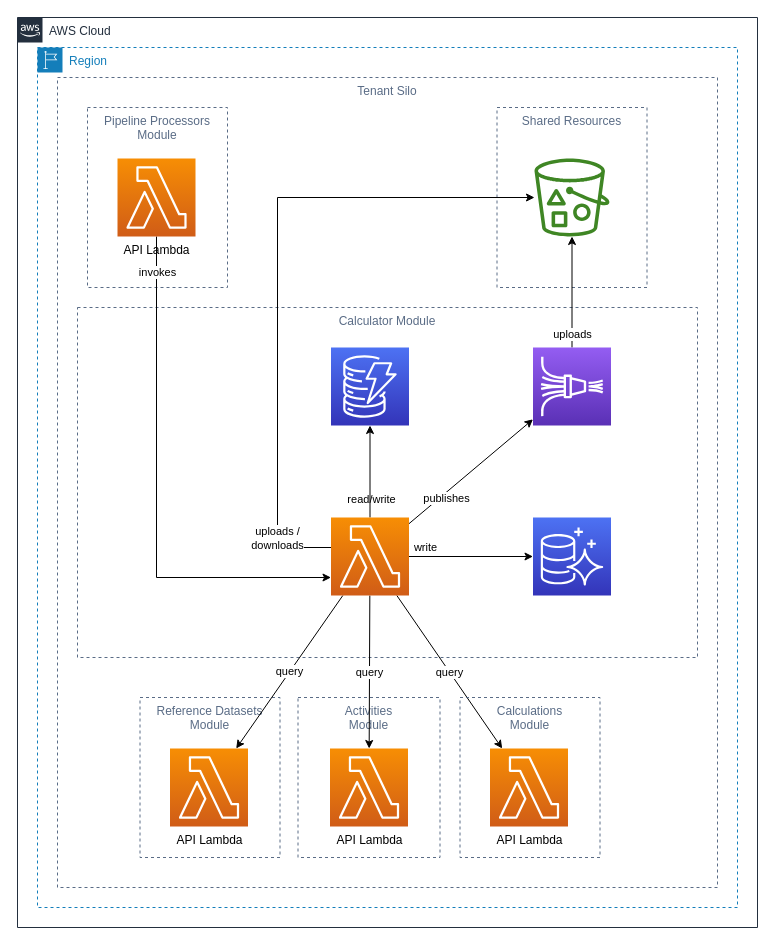
Image size: 775x945. Some labels were removed from this diagram. Here are the shapes that lost their labels. From the top down, the centre of each, then its label:
At (x=571, y=197): "Execution Data".
At (x=369, y=386): "Resource Cache Datastore".
At (x=571, y=386): "Audit Logs".
At (x=369, y=556): "Calculator Engine".
At (x=571, y=556): "Activities Datastore".
